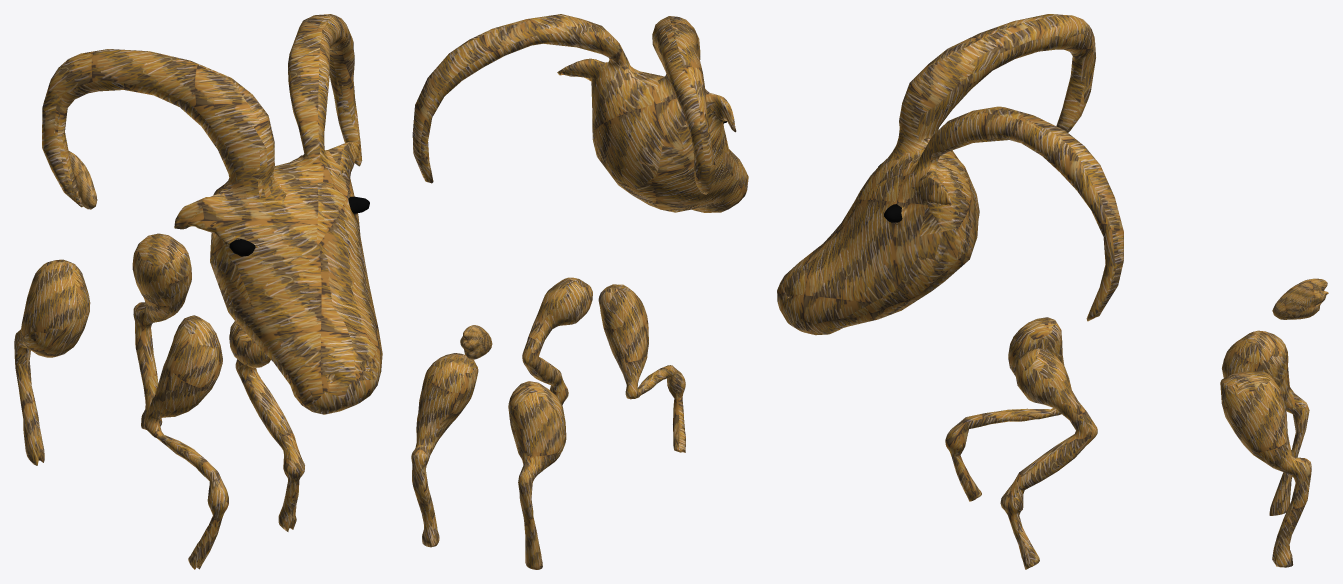
The model's file is ch10_ram.glb.
3 views of the same model, side by side, from view 1: azimuth 30°, elevation 25°; view 2: azimuth 150°, elevation 25°; view 3: azimuth 270°, elevation 25° (orthographic). The views are drawn at different scales.
Visible parts, largest first — view 1: _h10, _b102, _r103, _r102, _b101, _r101; view 2: _h10, _r103, _r102, _b102, _b101, _r101; view 3: _h10, _r102, _b101, _r103, _b102, _r101.
Boxes of the visible parts, left/top/right/bottom form: _h10: left=42, top=14, right=382, bottom=414; _b102: left=144, top=315, right=228, bottom=569; _r103: left=14, top=259, right=90, bottom=465; _r102: left=132, top=233, right=191, bottom=429; _b101: left=229, top=321, right=304, bottom=531; _r101: left=68, top=151, right=97, bottom=209; _h10: left=412, top=14, right=748, bottom=212; _r103: left=508, top=381, right=566, bottom=569; _r102: left=411, top=353, right=478, bottom=547; _b102: left=598, top=284, right=685, bottom=452; _b101: left=522, top=277, right=592, bottom=405; _r101: left=460, top=325, right=492, bottom=359; _h10: left=777, top=14, right=1123, bottom=335; _r102: left=1220, top=371, right=1311, bottom=567; _b101: left=1000, top=348, right=1097, bottom=569; _r103: left=1222, top=330, right=1309, bottom=515; _b102: left=945, top=317, right=1064, bottom=501; _r101: left=1272, top=278, right=1328, bottom=319.
Size of the model in its own units: 0.9292 by 1.4 by 1.45.
2 materials, 1 textured.
